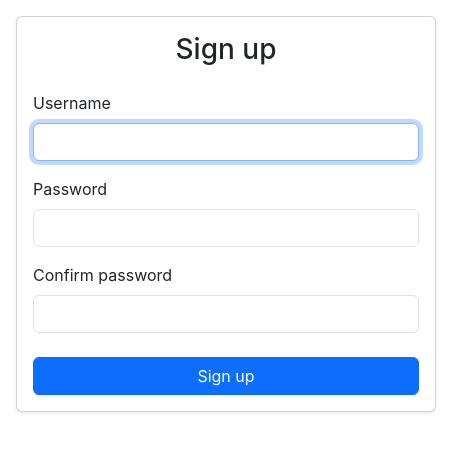
Scenario: SignupPage › shows user exists error when server returns 409
Type "felipe" into the field labelled "Username" at (226, 142), box [33,123,419,161]
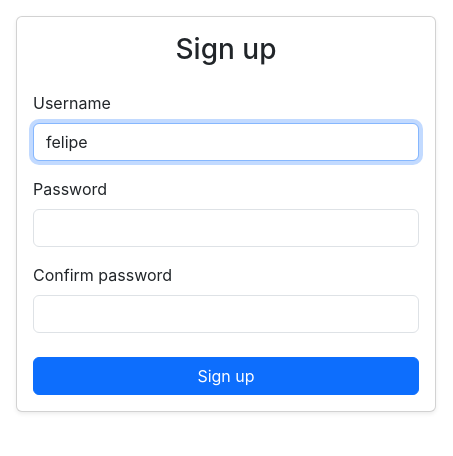
Type "123456" into the password field labelled "Password" at (226, 228), box [33,209,419,247]
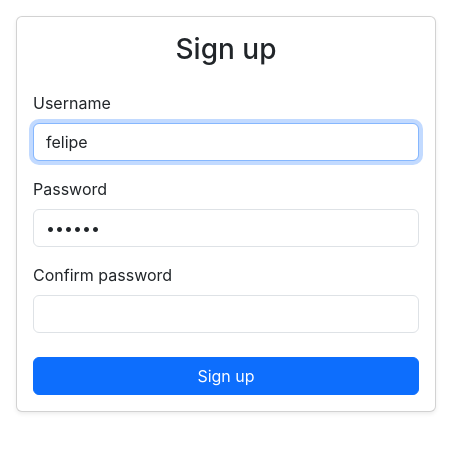
Type "123456" into the password field labelled "Confirm password" at (226, 314), box [33,295,419,333]
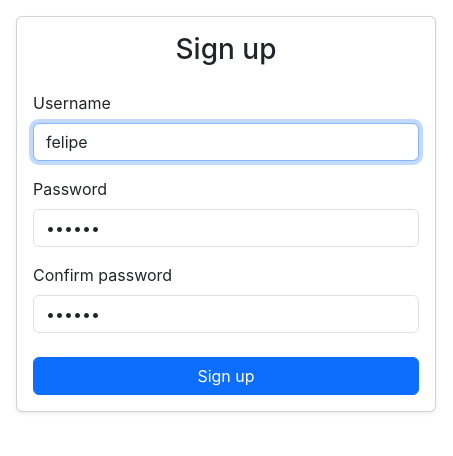
Click the button "Sign up" at (226, 376), box [33,357,419,395]
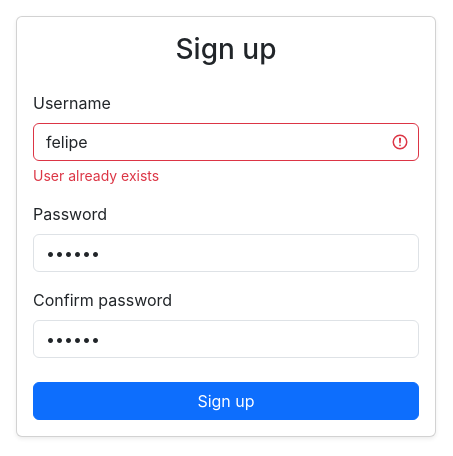
expect the text "User already exists" is shown: met, box [33,167,159,184]
